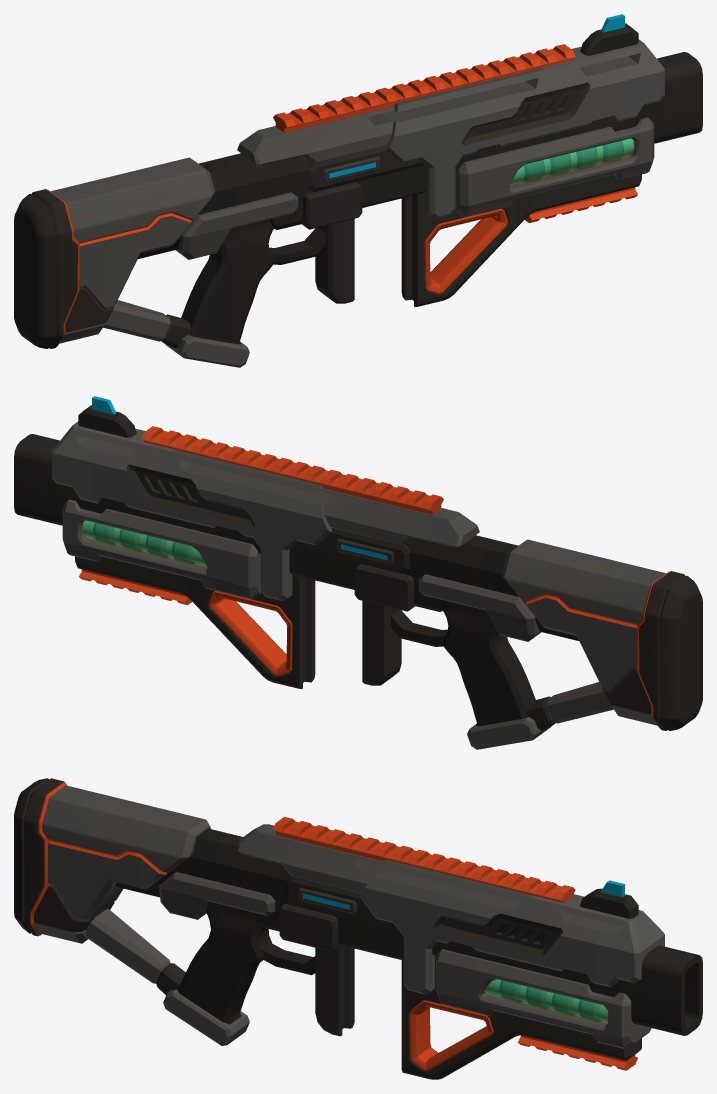
File: Shotgun2_Base.fbx
3 views of the same model, one above another, from view 1: azimuth 30°, elevation 25°; view 2: azimuth 150°, elevation 25°; view 3: azimuth 330°, elevation 25° (orthographic).
Parts seen in each view (by area): view 1: Shotgun2_Base; view 2: Shotgun2_Base; view 3: Shotgun2_Base.
Part boxes in pixels (left/top/right/bottom): Shotgun2_Base: left=14, top=14, right=702, bottom=367; Shotgun2_Base: left=14, top=396, right=702, bottom=749; Shotgun2_Base: left=14, top=778, right=702, bottom=1079.
Bounding box in the file's own units: 71.4 × 25.58 × 6.42.
